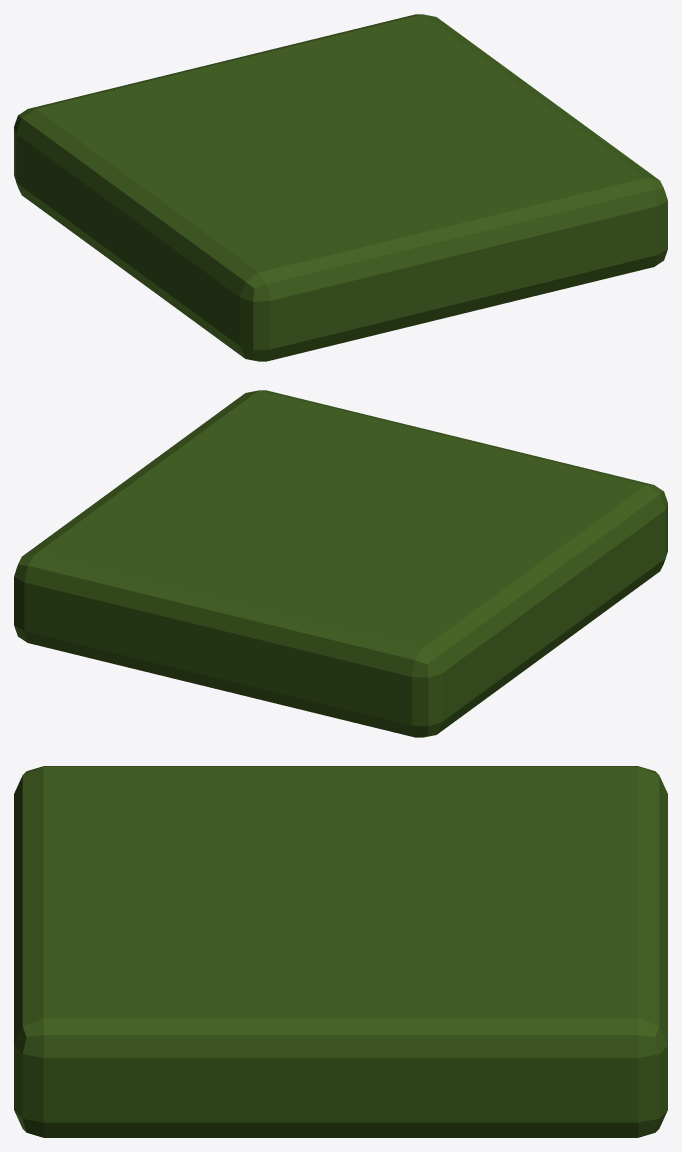
The model's file is GrassTop1.glb.
3 views of the same model, one above another, from view 1: azimuth 30°, elevation 25°; view 2: azimuth 150°, elevation 25°; view 3: azimuth 270°, elevation 25° (orthographic). The views are drawn at different scales.
Visible parts, largest first — view 1: Top_Big_0_4; view 2: Top_Big_0_4; view 3: Top_Big_0_4.
Boxes of the visible parts, bbox=[...] form: Top_Big_0_4: bbox=[14, 14, 667, 361]; Top_Big_0_4: bbox=[14, 390, 667, 737]; Top_Big_0_4: bbox=[14, 766, 667, 1137].
Bounding box in the file's own units: 2.2 × 0.44 × 2.2.
Materials: 1 (1 with a texture image).
